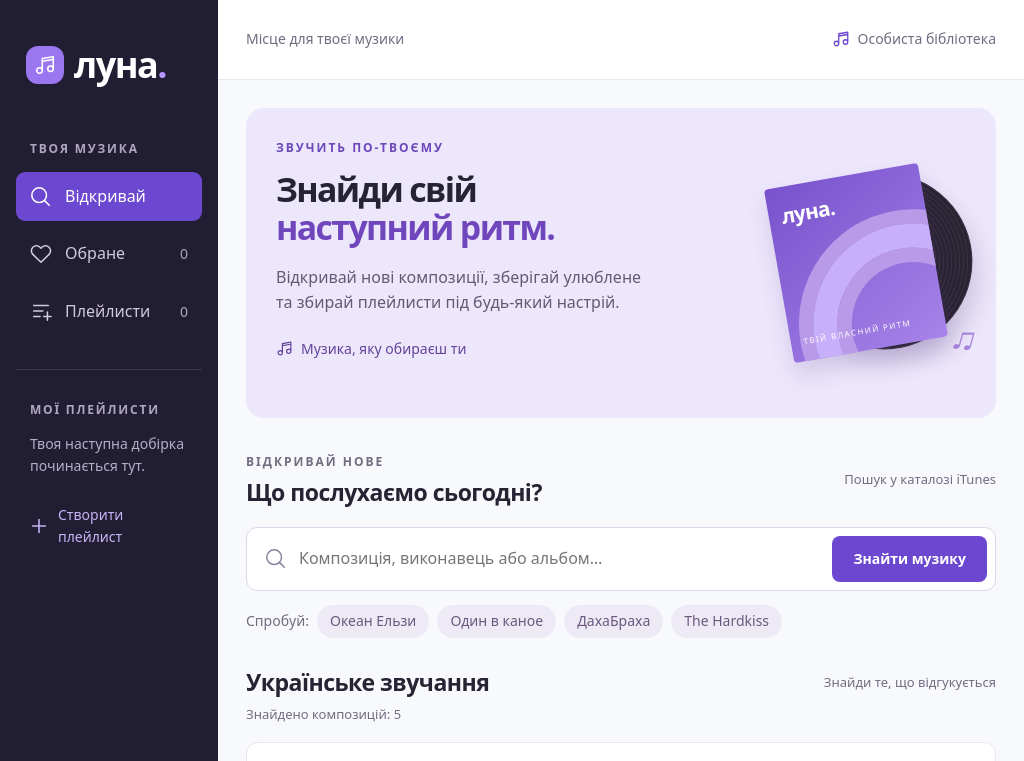
it: не надсилає порожній пошуковий запит
Click the button "Знайти музику": (910, 559) 832,536 -> 987,582
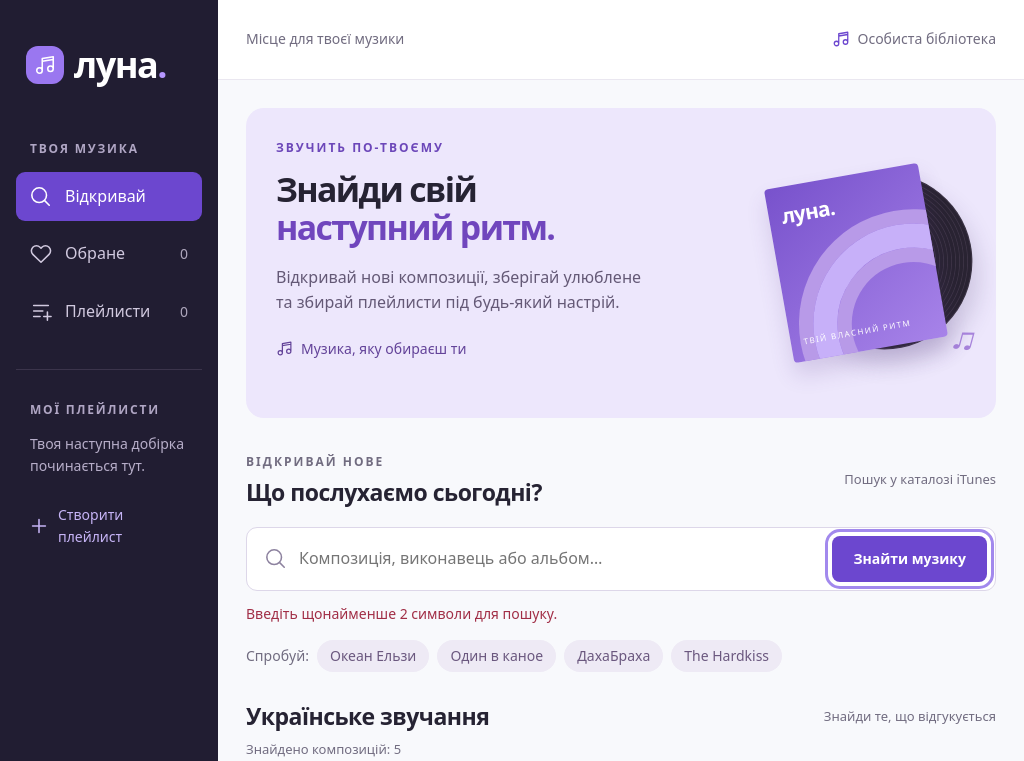
Result: the message "Введіть щонайменше 2 символи для пошуку." is shown at 246,604 -> 557,623
